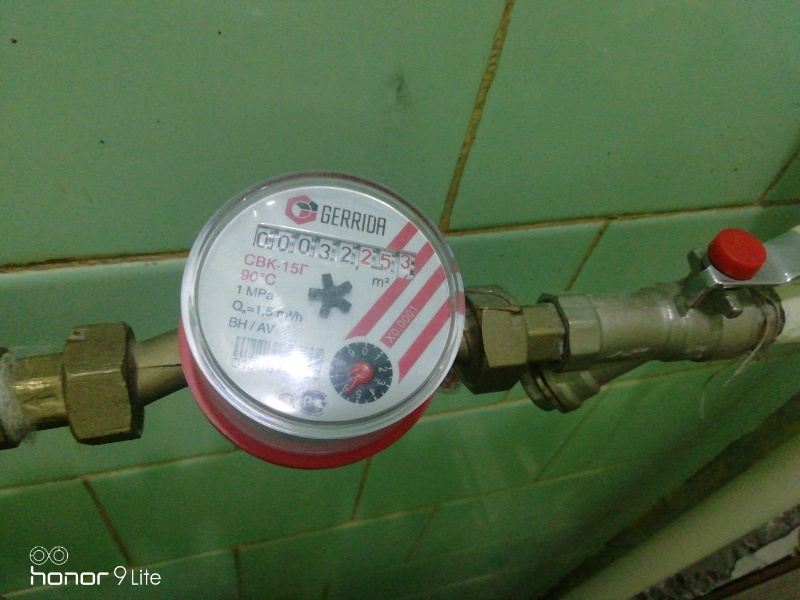meter: (257, 236, 423, 274)
